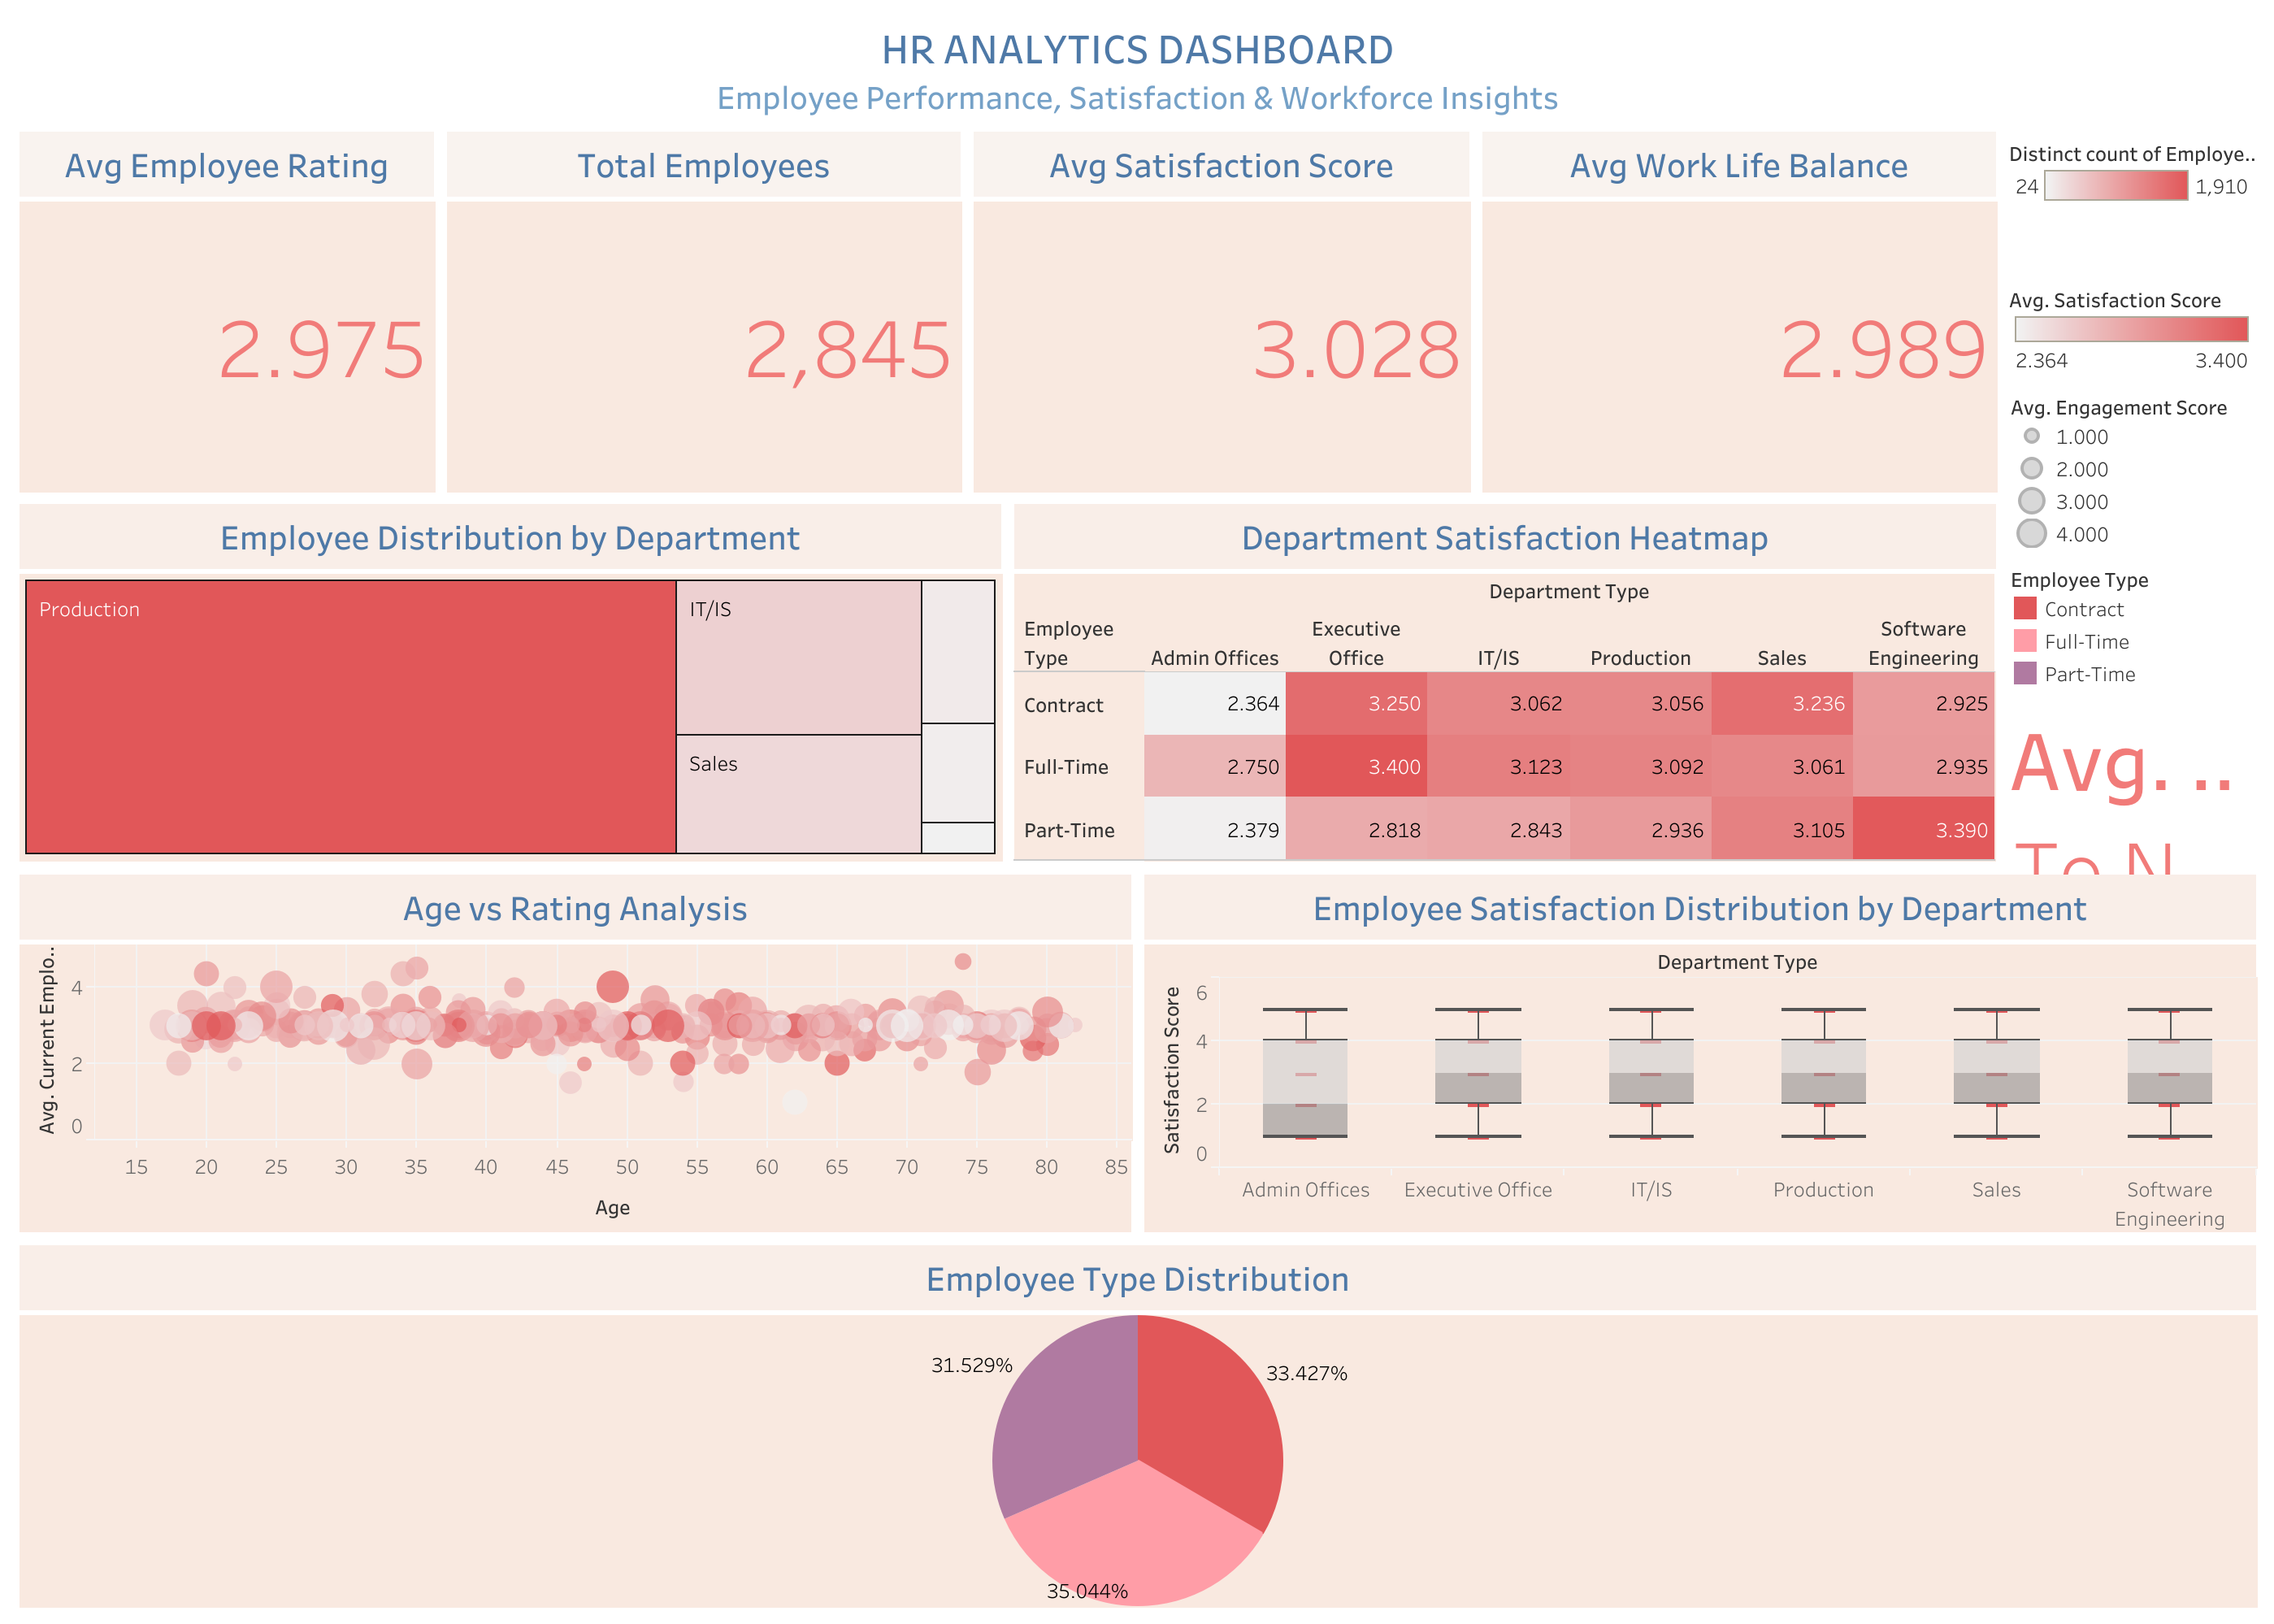

Layout of this report page (visuals, bound fields, positions):
{"tool":"tableau","page":{"name":"Dashboard 2","canvas":[1400,1000],"ordinal":1},"visuals":[{"type":"title","box":[8,8,1384,69]},{"type":"worksheet","title":"Sheet 1 (2)","mark":"Automatic","box":[8,77,263,228.7]},{"type":"worksheet","title":"Sheet 1","mark":"Automatic","box":[271,77,324,228.7]},{"type":"worksheet","title":"Sheet 1 (3)","mark":"Automatic","box":[595,77,313,228.7]},{"type":"worksheet","title":"Sheet 1 (4)","mark":"Automatic","box":[908,77,324,228.7]},{"type":"legend","title":"Sheet 4","param":"[federated.10vgrn002gl0lr1fx9wro1rsea2d].[ctd:Employee ID:qk]","box":[1232,77,160,68]},{"type":"legend","title":"Sheet 4","param":"[federated.10vgrn002gl0lr1fx9wro1rsea2d].[ctd:Employee ID:qk]","box":[1232,145,160,22]},{"type":"legend","title":"Sheet 6","param":"[federated.10vgrn002gl0lr1fx9wro1rsea2d].[avg:Satisfaction Score:qk]","box":[1232,167,160,68]},{"type":"legend","title":"Sheet 7","param":"[federated.10vgrn002gl0lr1fx9wro1rsea2d].[avg:Engagement Score:qk]","box":[1232,235,160,106.2]},{"type":"worksheet","title":"Sheet 4","mark":"Automatic","box":[8,305.7,612,228.8]},{"type":"worksheet","title":"Sheet 6","mark":"Square","rows":["EmployeeType"],"cols":["DepartmentType"],"box":[620,305.7,612,228.8]},{"type":"legend","title":"Sheet 8","param":"[federated.10vgrn002gl0lr1fx9wro1rsea2d].[none:EmployeeType:nk]","box":[1232,341.2,160,87]},{"type":"filter","title":"Sheet 1 (2)","param":"[federated.10vgrn002gl0lr1fx9wro1rsea2d].[avg:Current Employee Rating:qk]","box":[1232,428.2,160,106.2]},{"type":"worksheet","title":"Sheet 7","mark":"Circle","rows":["Current Employee Rating"],"cols":["Age"],"box":[8,534.5,692,227.7]},{"type":"worksheet","title":"Sheet 9","mark":"Automatic","rows":["Satisfaction Score"],"cols":["DepartmentType"],"box":[700,534.5,692,227.7]},{"type":"worksheet","title":"Sheet 8","mark":"Pie","box":[8,762.2,1384,229.8]}]}

Visuals, with their boxes in screenshot pixels (x1, y1, x2, y2), scaled from the page's 1400x1000 canvas onto the 2274x1624 screenshot:
title: pyautogui.locateOnScreen(13, 13, 2261, 125)
"Sheet 1 (2)" worksheet: pyautogui.locateOnScreen(13, 125, 440, 497)
"Sheet 1" worksheet: pyautogui.locateOnScreen(440, 125, 966, 497)
"Sheet 1 (3)" worksheet: pyautogui.locateOnScreen(966, 125, 1475, 497)
"Sheet 1 (4)" worksheet: pyautogui.locateOnScreen(1475, 125, 2001, 497)
"Sheet 4" legend: pyautogui.locateOnScreen(2001, 125, 2261, 236)
"Sheet 4" legend: pyautogui.locateOnScreen(2001, 236, 2261, 271)
"Sheet 6" legend: pyautogui.locateOnScreen(2001, 271, 2261, 382)
"Sheet 7" legend: pyautogui.locateOnScreen(2001, 382, 2261, 554)
"Sheet 4" worksheet: pyautogui.locateOnScreen(13, 497, 1007, 868)
"Sheet 6" worksheet (Square marks): pyautogui.locateOnScreen(1007, 497, 2001, 868)
"Sheet 8" legend: pyautogui.locateOnScreen(2001, 554, 2261, 696)
"Sheet 1 (2)" filter: pyautogui.locateOnScreen(2001, 696, 2261, 868)
"Sheet 7" worksheet (Circle marks): pyautogui.locateOnScreen(13, 868, 1137, 1238)
"Sheet 9" worksheet: pyautogui.locateOnScreen(1137, 868, 2261, 1238)
"Sheet 8" worksheet (Pie marks): pyautogui.locateOnScreen(13, 1238, 2261, 1611)
